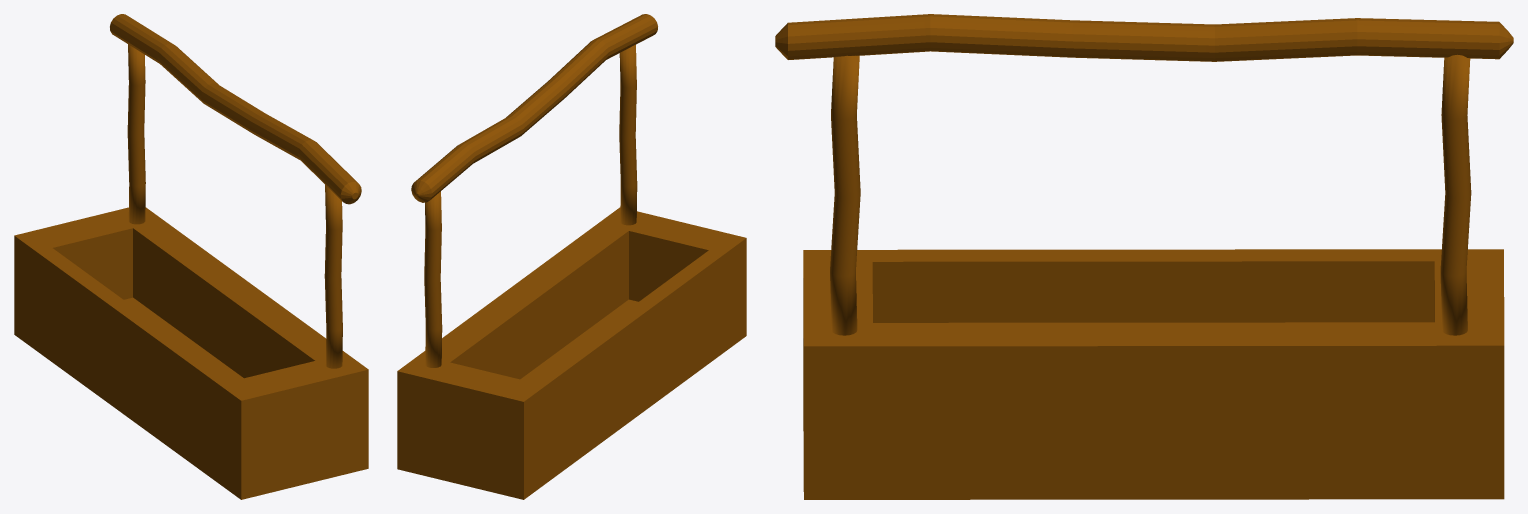
File: mangnuoc.fbx
The picture shows the model from 3 angles, left to right: view 1: azimuth 30°, elevation 25°; view 2: azimuth 150°, elevation 25°; view 3: azimuth 270°, elevation 25°; orthographic projection. The views are drawn at different scales.
Parts seen in each view (by area): view 1: mangnuoc3, mangnuoc, mangnuoc1, mangnuoc2; view 2: mangnuoc3, mangnuoc, mangnuoc1, mangnuoc2; view 3: mangnuoc3, mangnuoc, mangnuoc1, mangnuoc2.
Part boxes in pixels (<box>): mangnuoc3: <box>14,207,368,499</box>; mangnuoc: <box>110,14,361,204</box>; mangnuoc1: <box>324,185,342,368</box>; mangnuoc2: <box>127,44,145,224</box>; mangnuoc3: <box>397,207,746,499</box>; mangnuoc: <box>411,14,657,202</box>; mangnuoc1: <box>619,44,637,225</box>; mangnuoc2: <box>424,191,442,367</box>; mangnuoc3: <box>803,249,1504,499</box>; mangnuoc: <box>775,14,1513,61</box>; mangnuoc1: <box>830,55,860,335</box>; mangnuoc2: <box>1440,54,1471,335</box>.
Bounding box in the file's own units: 0.9221 × 2.08 × 2.96.
Materials: 1 (1 with a texture image).
